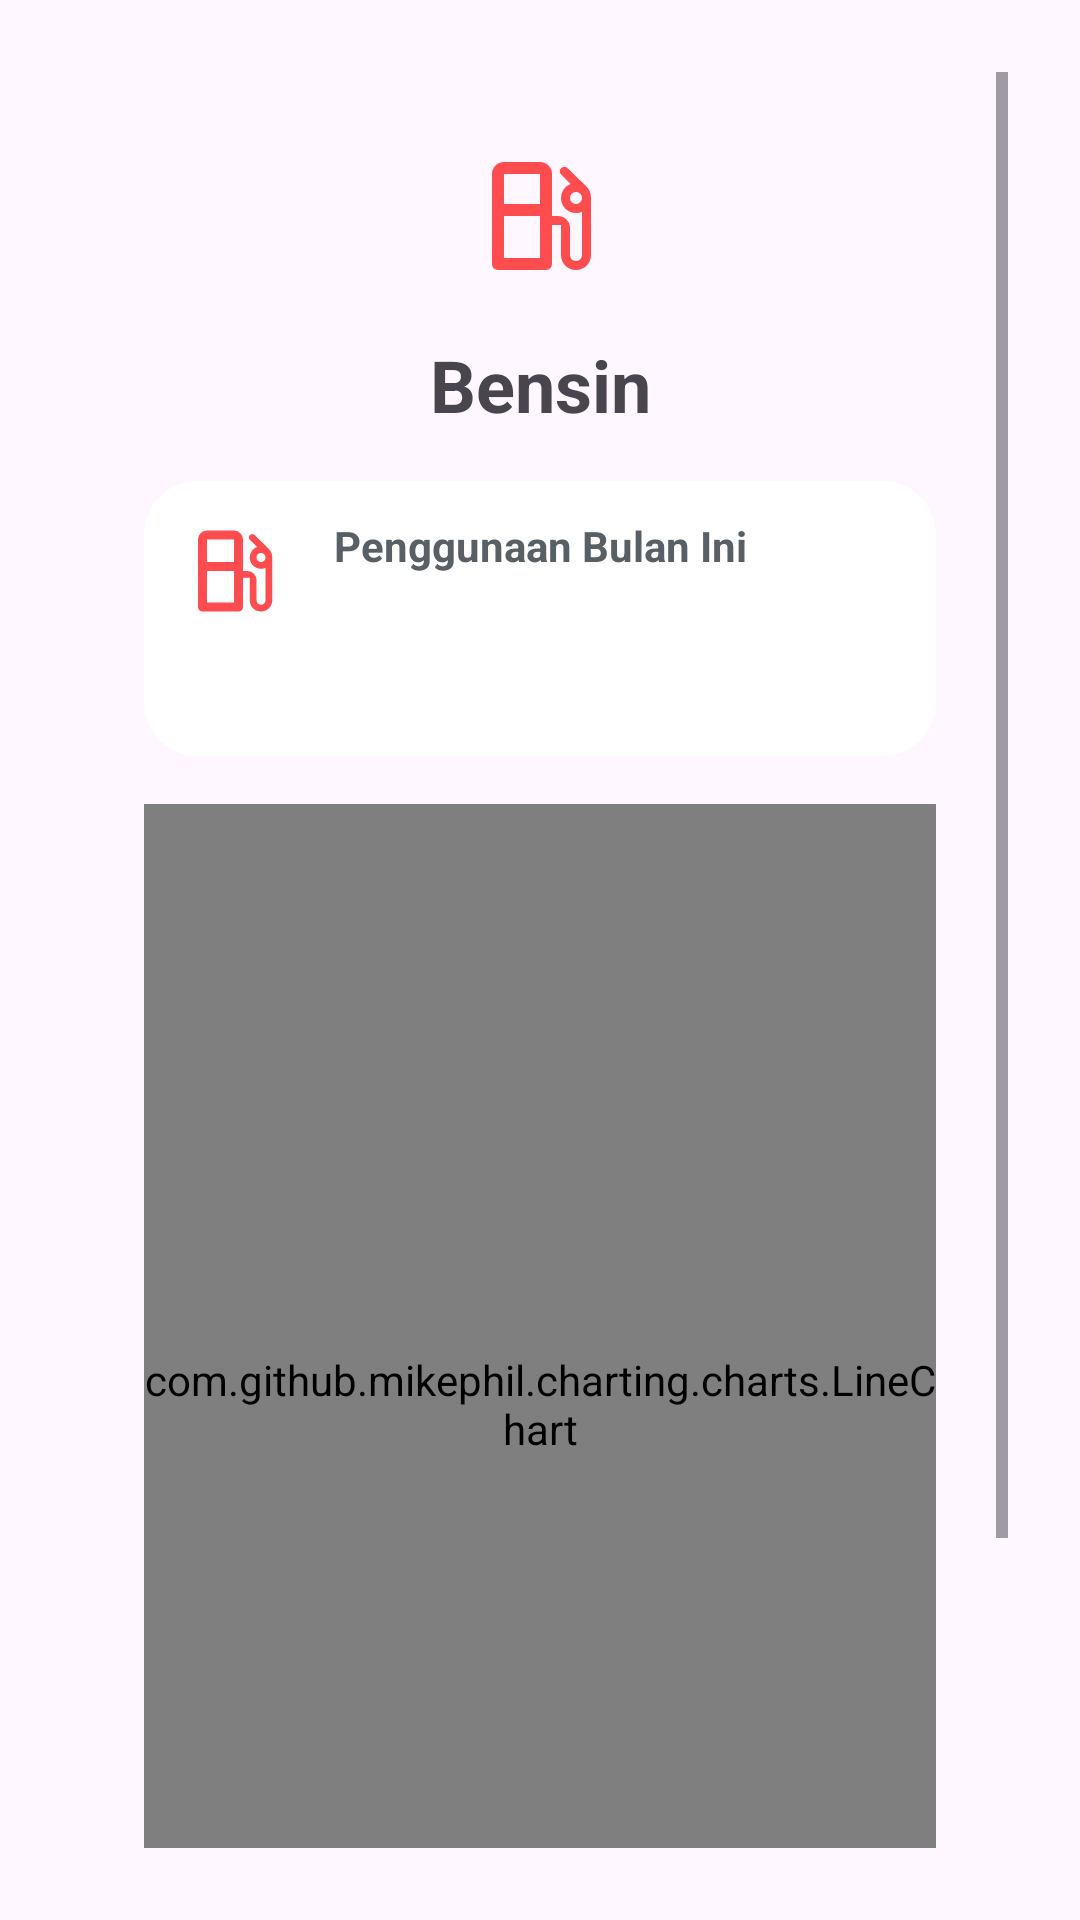

Screen size 1080×1920. Icon name, then its box in pixels as (x1, y1, x2, y2):
local gas station: (492, 162, 591, 270), (198, 530, 273, 612)
